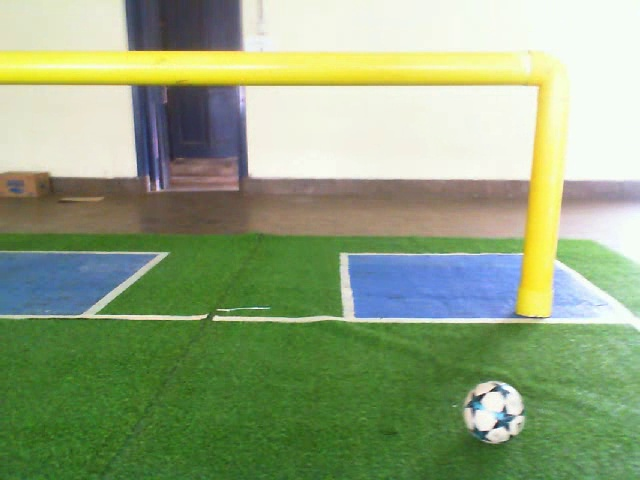ball: (461, 379, 527, 445)
